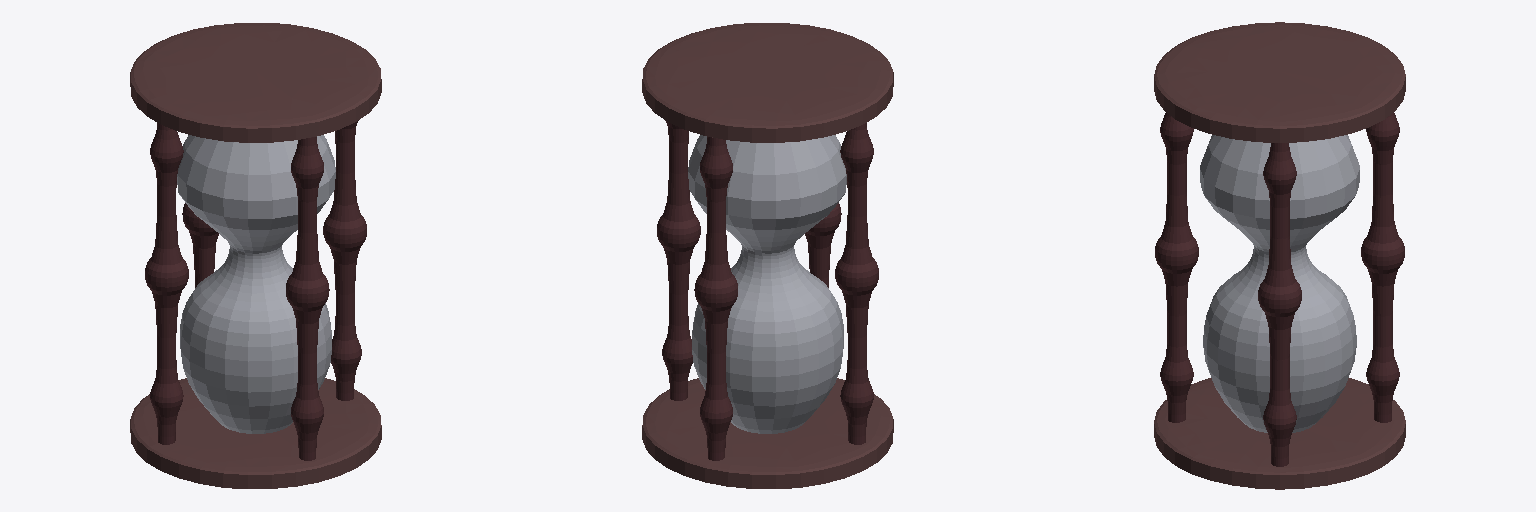
Rendered from hourglass00.obj.
The picture shows the model from 3 angles: view 1: azimuth 30°, elevation 25°; view 2: azimuth 150°, elevation 25°; view 3: azimuth 270°, elevation 25°; orthographic projection.
Visible parts, largest first — view 1: Legs; view 2: Legs; view 3: Legs.
Part boxes in pixels (left/top/right/bottom): Legs: left=130, top=23, right=381, bottom=488; Legs: left=642, top=23, right=893, bottom=488; Legs: left=1154, top=22, right=1405, bottom=489.
Bounding box in the file's own units: 1.36 × 2.2 × 1.36.